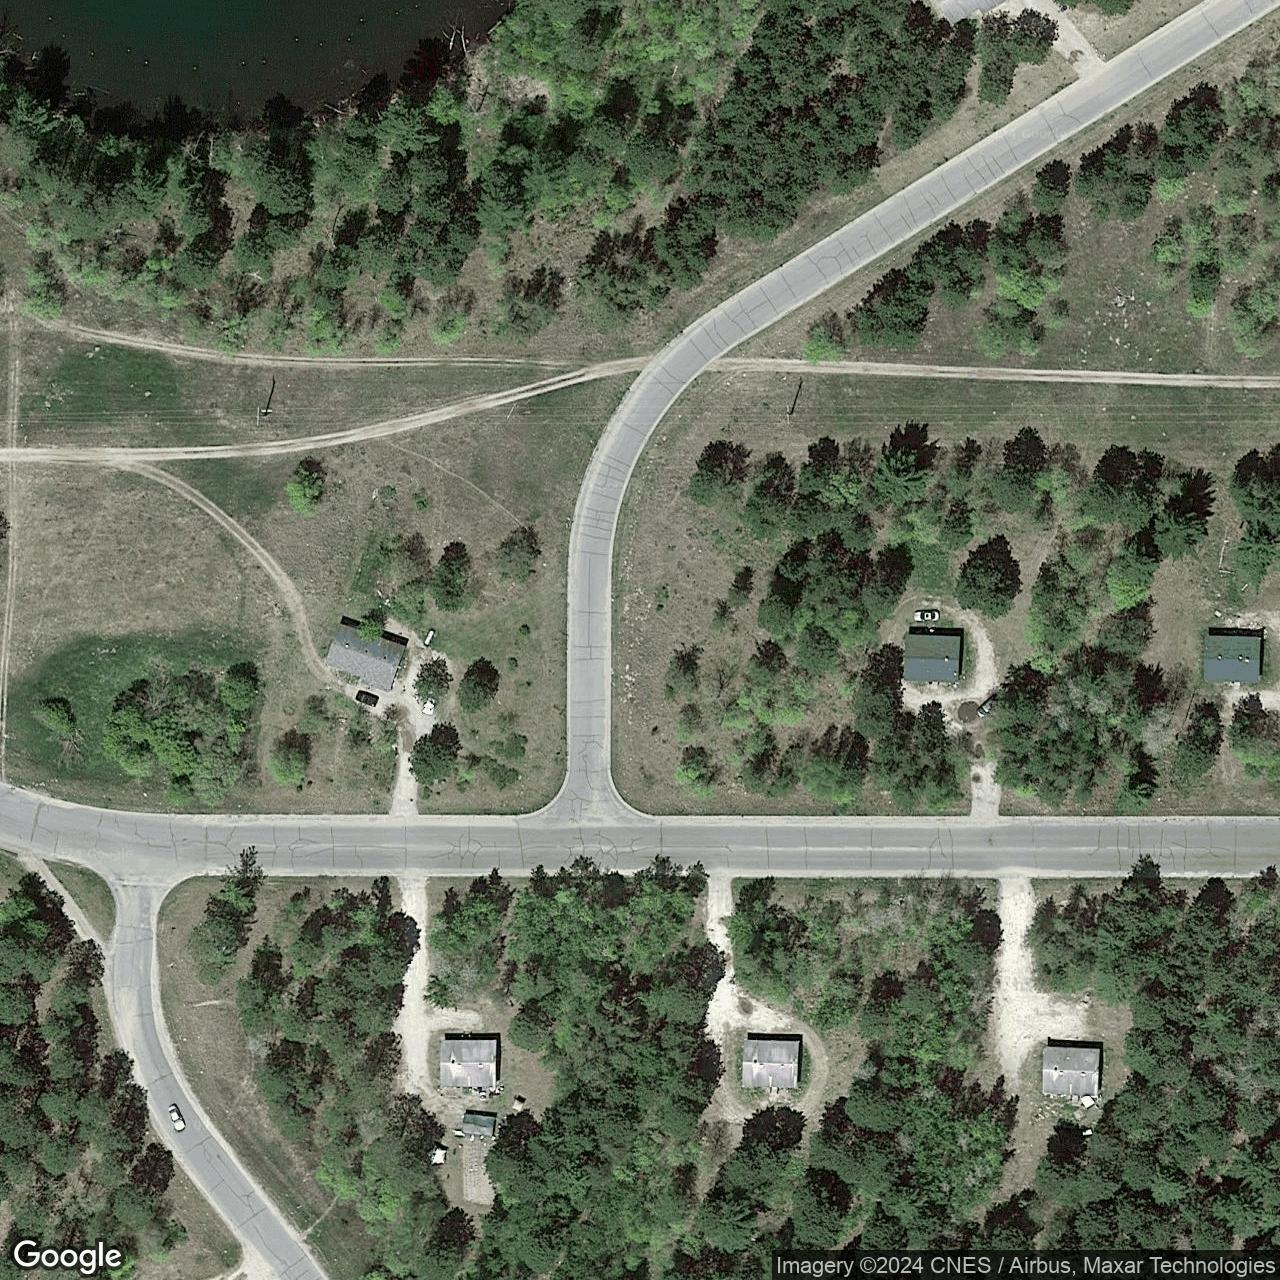Garage: (459, 1112, 498, 1139)
House: (325, 622, 407, 690), (1039, 1046, 1101, 1098), (740, 1041, 802, 1090), (437, 1040, 498, 1089), (900, 634, 960, 682), (1204, 635, 1262, 683)
Propane: (422, 627, 438, 647)
